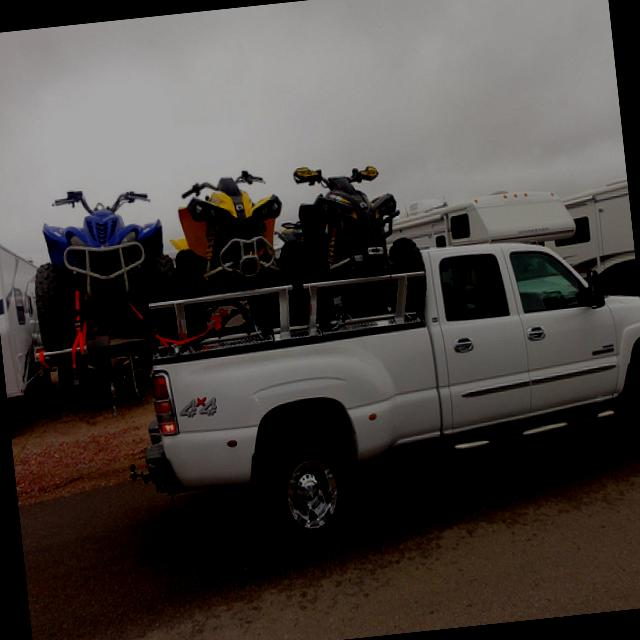Vehicle: (17, 126, 640, 582), (105, 176, 640, 570), (163, 165, 292, 299), (290, 155, 426, 282), (548, 173, 640, 313)
